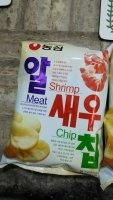snack: (0, 41, 113, 178)
